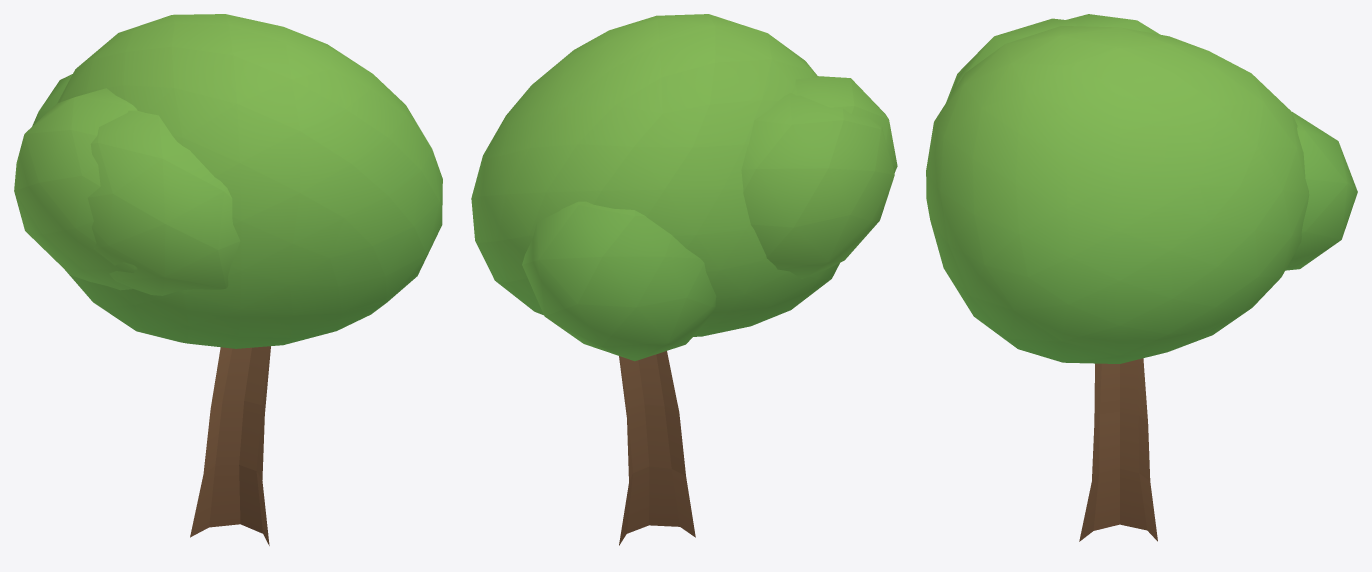
File: tree_7_hi.glb
The picture shows the model from 3 angles, left to right: view 1: azimuth 30°, elevation 25°; view 2: azimuth 150°, elevation 25°; view 3: azimuth 270°, elevation 25°; orthographic projection. The views are drawn at different scales.
Visible parts, largest first — view 1: tree_hi_7; view 2: tree_hi_7; view 3: tree_hi_7.
Part boxes in pixels (x1,y1,x2,y2): tree_hi_7: (14, 14, 442, 545); tree_hi_7: (471, 14, 897, 545); tree_hi_7: (926, 14, 1357, 541).
Size of the model in its own units: 2.85 by 3.67 by 2.91.
